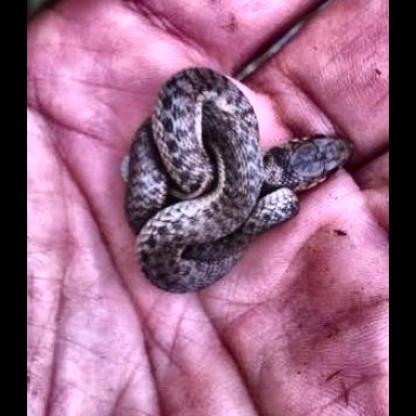Snake: (114, 68, 350, 294)
